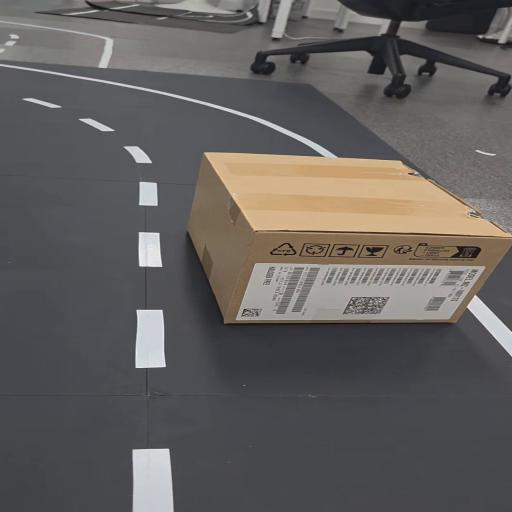Box: (177, 144, 512, 330)
